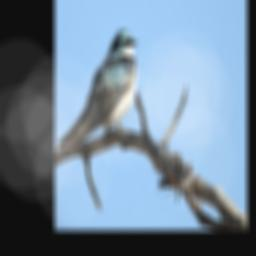Swallow: (57, 28, 138, 151)
